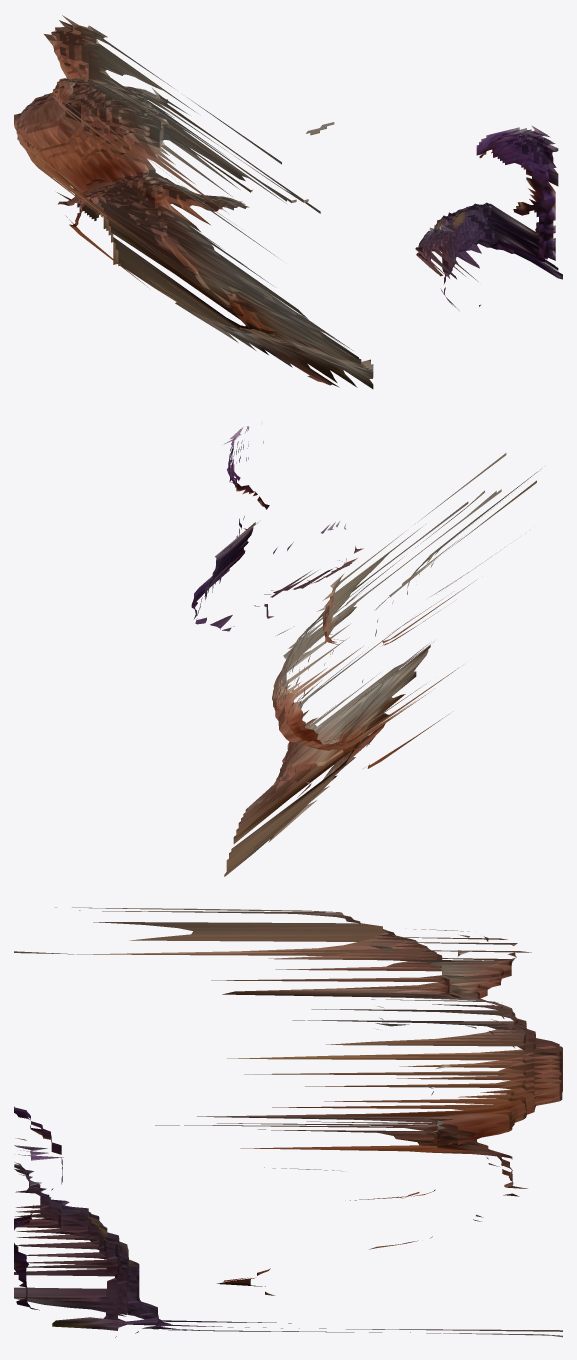
The model's file is frame_00300.glb.
3 views of the same model, one above another, from view 1: azimuth 30°, elevation 25°; view 2: azimuth 150°, elevation 25°; view 3: azimuth 270°, elevation 25° (orthographic). The views are drawn at different scales.
Parts seen in each view (by area): view 1: geometry_0; view 2: geometry_0; view 3: geometry_0.
Boxes of the visible parts, x1,y1,x2,y2 form: geometry_0: [14, 15, 562, 388]; geometry_0: [191, 426, 540, 876]; geometry_0: [14, 907, 562, 1337].
Size of the model in its own units: 0.1417 by 0.1144 by 0.16.
1 material, 1 textured.
